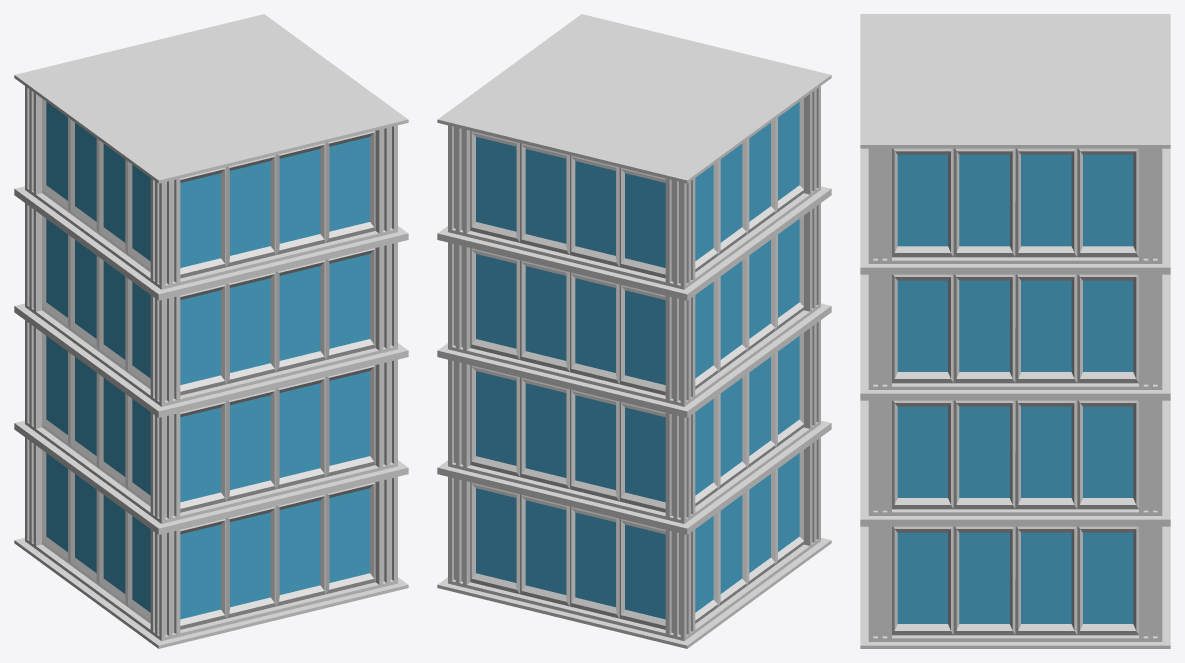
File: building.fbx
3 views of the same model, side by side, from view 1: azimuth 30°, elevation 25°; view 2: azimuth 150°, elevation 25°; view 3: azimuth 270°, elevation 25° (orthographic). The views are drawn at different scales.
Parts seen in each view (by area): view 1: Cube.084, Cube.024, Cube.002, Cube.046, Cube.068, Cube.032, Cube.054, Cube.010, Cube.011, Cube.013, Cube.033, Cube.077 (+40 smaller); view 2: Cube.084, Cube.024, Cube.002, Cube.046, Cube.068, Cube.036, Cube.058, Cube.014, Cube.015, Cube.017, Cube.039, Cube.083 (+40 smaller); view 3: Cube.084, Cube.001, Cube.005, Cube.023, Cube.027, Cube.045, Cube.049, Cube.067, Cube.071, Cube.003, Cube.004, Cube.025 (+20 smaller).
Part boxes in pixels (bbox=[...]): Cube.084: bbox=[14, 14, 408, 183]; Cube.024: bbox=[14, 420, 408, 531]; Cube.002: bbox=[14, 537, 408, 648]; Cube.046: bbox=[14, 303, 408, 414]; Cube.068: bbox=[14, 186, 408, 297]; Cube.032: bbox=[276, 377, 325, 489]; Cube.054: bbox=[276, 260, 325, 372]; Cube.010: bbox=[276, 494, 325, 606]; Cube.011: bbox=[226, 506, 275, 618]; Cube.013: bbox=[326, 482, 375, 594]; Cube.033: bbox=[226, 389, 275, 501]; Cube.077: bbox=[226, 155, 275, 267]; Cube.084: bbox=[437, 14, 831, 183]; Cube.024: bbox=[437, 420, 831, 531]; Cube.002: bbox=[437, 537, 831, 648]; Cube.046: bbox=[437, 303, 831, 414]; Cube.068: bbox=[437, 186, 831, 297]; Cube.036: bbox=[520, 377, 569, 489]; Cube.058: bbox=[520, 260, 569, 372]; Cube.014: bbox=[520, 494, 569, 606]; Cube.015: bbox=[470, 482, 519, 594]; Cube.017: bbox=[570, 506, 619, 618]; Cube.039: bbox=[570, 389, 619, 501]; Cube.083: bbox=[570, 155, 619, 267]; Cube.084: bbox=[860, 14, 1170, 148]; Cube.001: bbox=[953, 526, 1015, 635]; Cube.005: bbox=[1015, 526, 1077, 635]; Cube.023: bbox=[953, 400, 1015, 509]; Cube.027: bbox=[1015, 400, 1077, 509]; Cube.045: bbox=[953, 274, 1015, 383]; Cube.049: bbox=[1015, 274, 1077, 383]; Cube.067: bbox=[953, 148, 1015, 257]; Cube.071: bbox=[1015, 148, 1077, 257]; Cube.003: bbox=[892, 526, 953, 635]; Cube.004: bbox=[1077, 526, 1138, 635]; Cube.025: bbox=[892, 400, 953, 509].
Bounding box in the file's own units: 4018 × 7200 × 4018.
